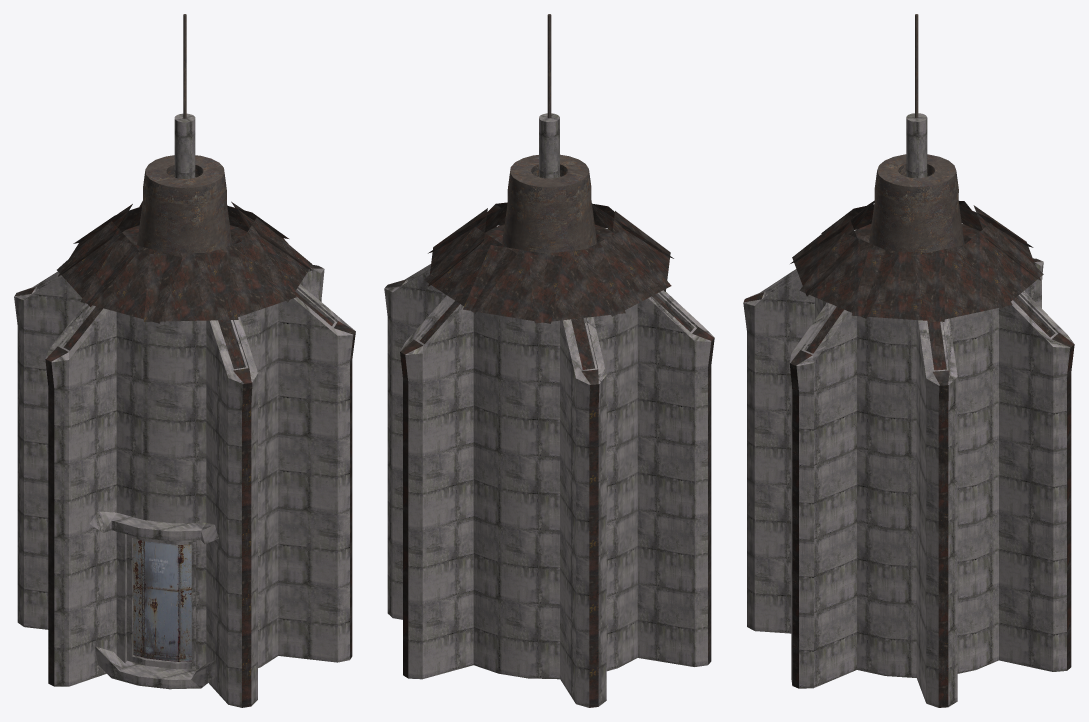
The model's file is Transf.FBX.
The picture shows the model from 3 angles, left to right: view 1: azimuth 30°, elevation 25°; view 2: azimuth 150°, elevation 25°; view 3: azimuth 270°, elevation 25°; orthographic projection.
Parts seen in each view (by area): view 1: Cylinder001, катушка, катушка 2, Стекло, дверь, тело сгл, Стекло 2; view 2: Cylinder001, катушка, катушка 2, Стекло, тело сгл, Стекло 2, антенна; view 3: Cylinder001, катушка, Стекло, катушка 2, тело сгл, Стекло 2.
Boxes of the visible parts, box(x1,y1,x2,y2) form: Cylinder001: box(14, 267, 354, 707); катушка: box(57, 201, 312, 323); катушка 2: box(137, 155, 232, 253); Стекло: box(14, 264, 355, 707); дверь: box(133, 538, 191, 661); тело сгл: box(174, 113, 195, 178); Стекло 2: box(63, 291, 332, 369); Cylinder001: box(384, 264, 714, 707); катушка: box(424, 202, 673, 323); катушка 2: box(502, 154, 596, 253); Стекло: box(385, 279, 714, 707); тело сгл: box(539, 113, 559, 178); Стекло 2: box(420, 294, 692, 369); антенна: box(547, 14, 551, 118); Cylinder001: box(743, 261, 1073, 707); катушка: box(790, 200, 1043, 322); Стекло: box(743, 258, 1074, 707); катушка 2: box(869, 154, 964, 252); тело сгл: box(906, 113, 927, 178); Стекло 2: box(806, 297, 1053, 370).
Size of the model in its own units: 67.15 by 133 by 64.16.
4 materials, 4 textured.
